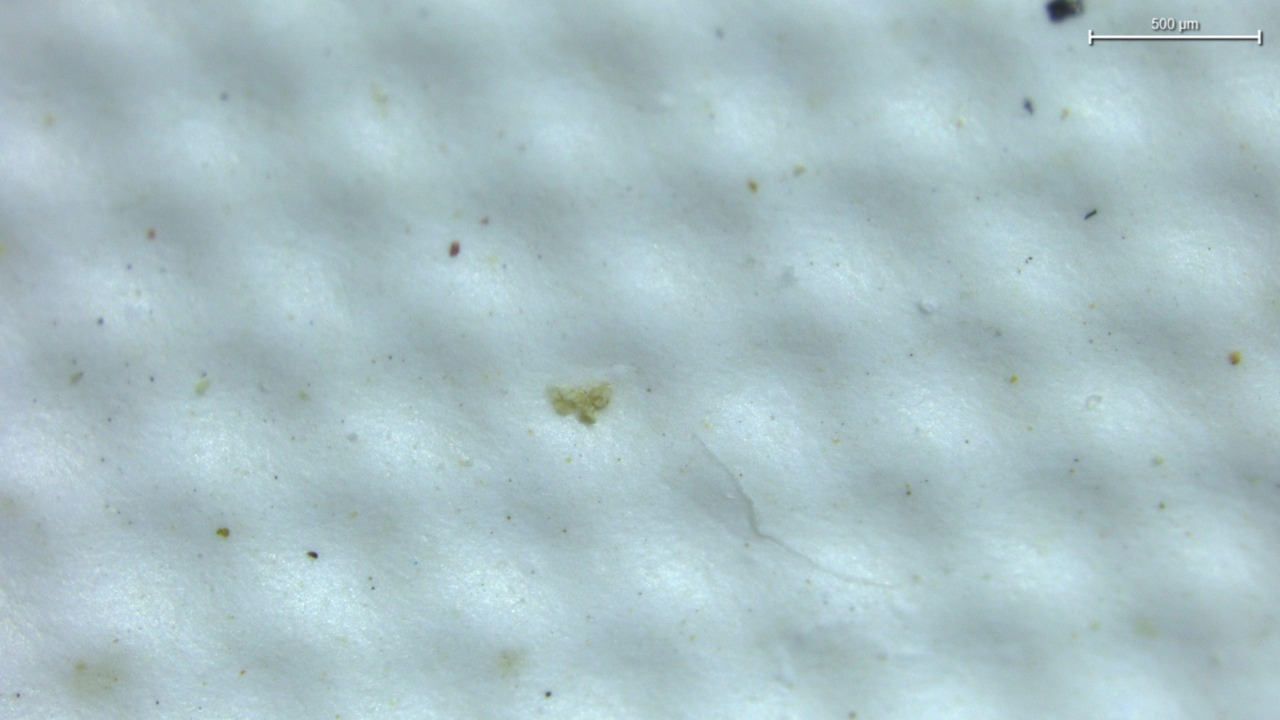microplastic_fragment: (547, 382, 612, 425)
